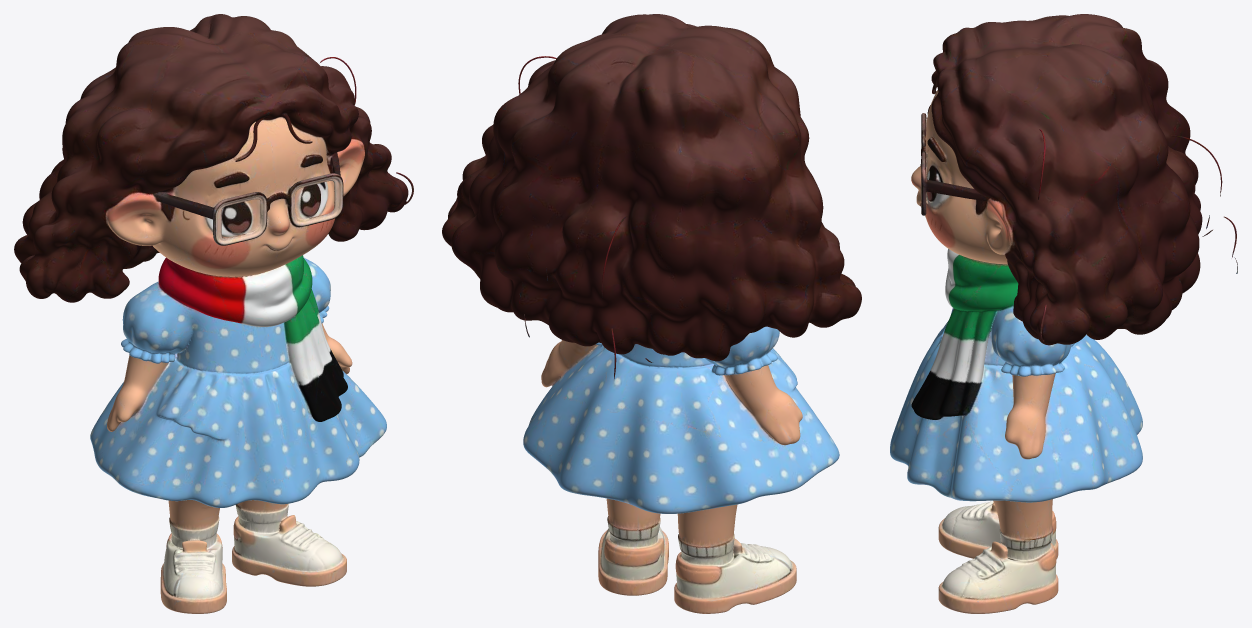
The model's file is sofia-uae-scarf.glb.
3 views of the same model, side by side, from view 1: azimuth 30°, elevation 25°; view 2: azimuth 150°, elevation 25°; view 3: azimuth 270°, elevation 25° (orthographic). The views are drawn at different scales.
Bounding box in the file's own units: 1.44 × 1.9 × 1.1.
Materials: 1 (1 with a texture image).
